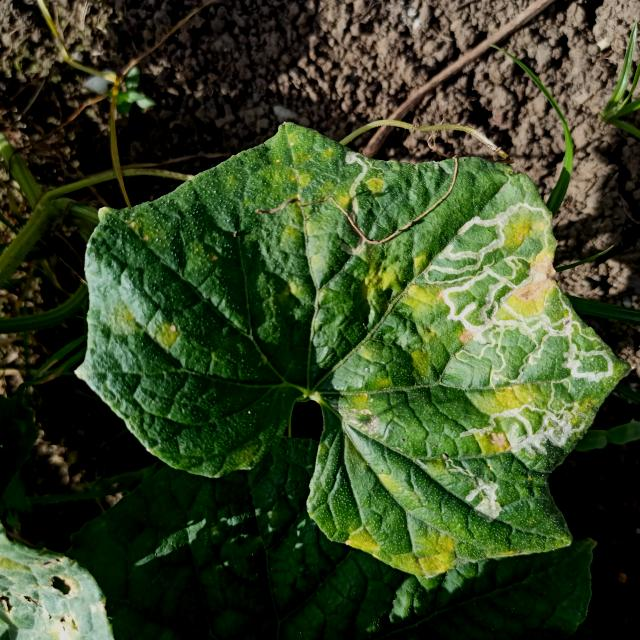disease_cucumber: (336, 210, 610, 472), (267, 137, 399, 296), (338, 472, 511, 580), (117, 304, 180, 352)
